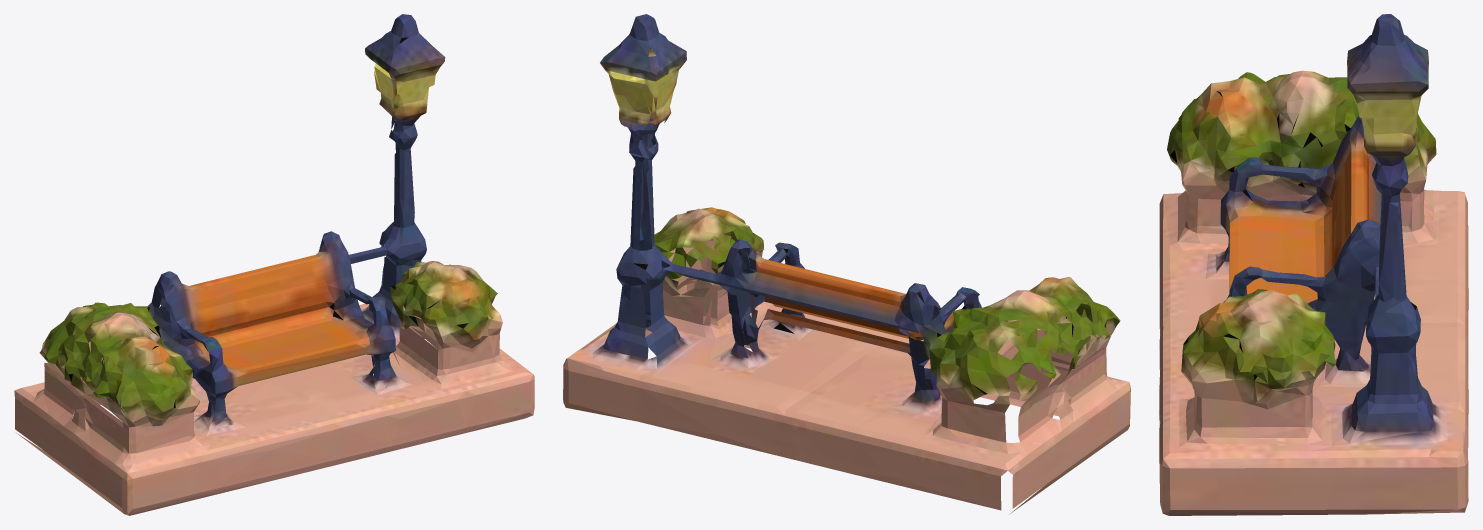
Rendered from M-13_07_bench_lamp.glb.
3 views of the same model, side by side, from view 1: azimuth 30°, elevation 25°; view 2: azimuth 150°, elevation 25°; view 3: azimuth 270°, elevation 25° (orthographic). The views are drawn at different scales.
Parts seen in each view (by area): view 1: loA; view 2: loA; view 3: loA.
Part boxes in pixels (bbox=[...]): loA: bbox=[14, 14, 534, 515]; loA: bbox=[563, 14, 1130, 514]; loA: bbox=[1159, 14, 1468, 515].
Size of the model in its own units: 3.97 by 3.22 by 1.91.
Materials: 1 (1 with a texture image).
